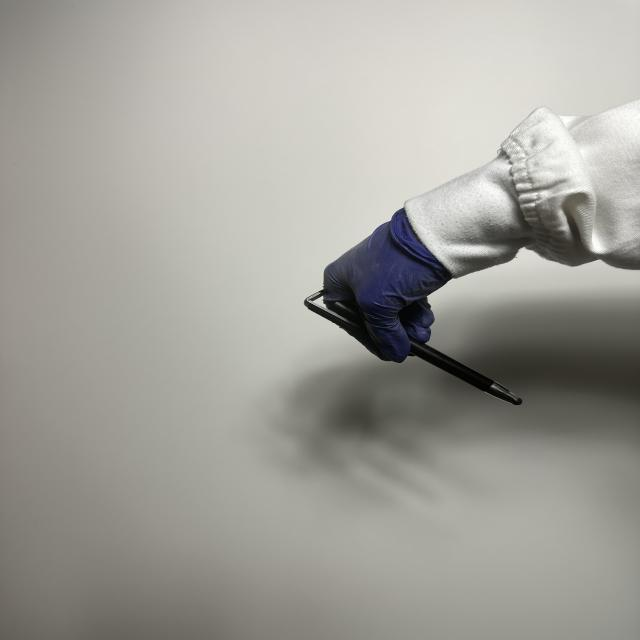gloves_contaminated: (323, 209, 452, 362)
